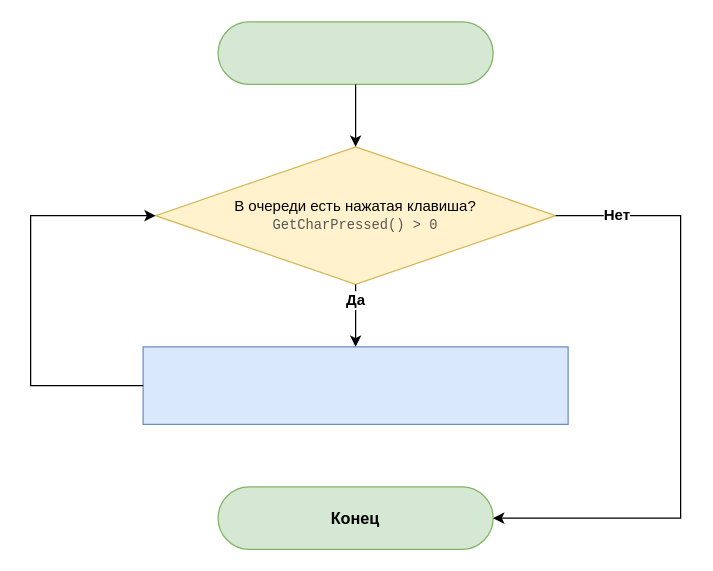
Some shapes in this 713 by 571 pixel diagram are drawn without their labels. The shapes that lost their labels are listed below. From the top down, each one's centre as x and y in pixels, then its label:
[355,52]: Начало: очистить очередь клавиш ClearInputBuffer()
[355,385]: Взять клавишу из очереди и выбросить // тело цикла пустое
